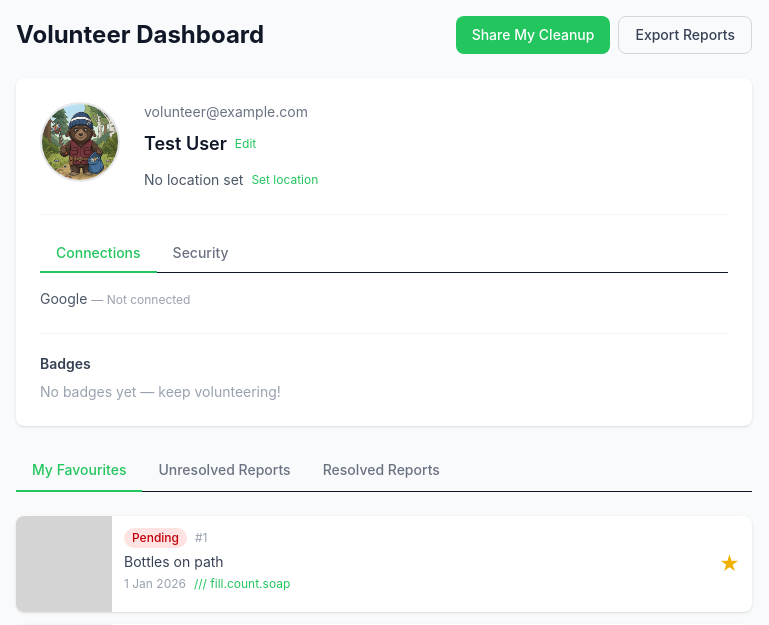
Scenario: VolunteerDashboard › switches to resolved tab
Check: the text "Bottles on path" is shown, box [124,553,224,570]
Click the button "Resolved Reports" at (381, 471), box [307,450,456,492]
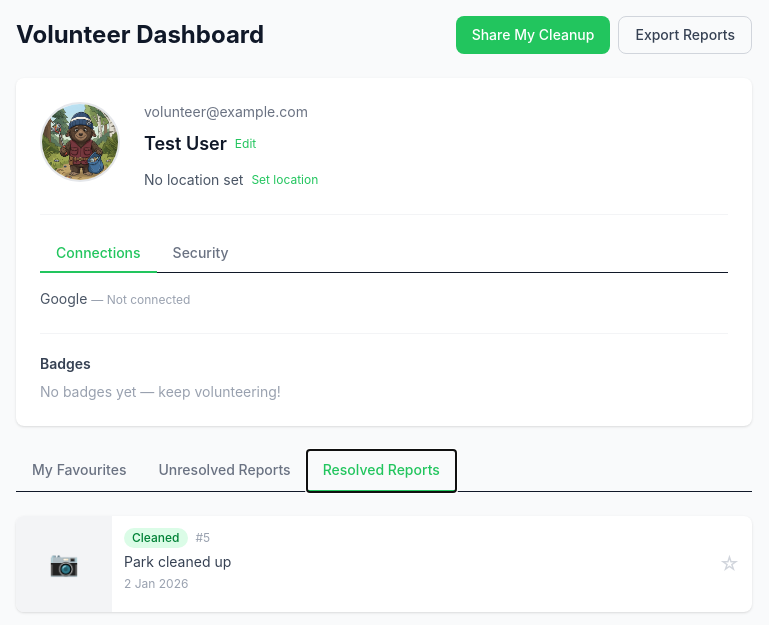
Check: the text "Park cleaned up" is shown, box [124,553,231,570]
